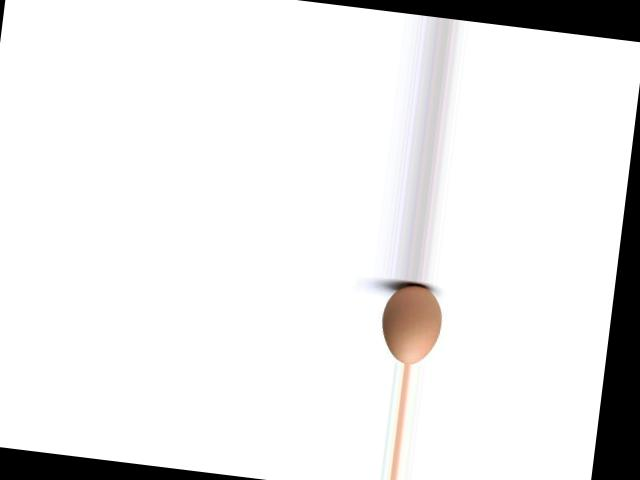egg: (378, 280, 446, 367)
